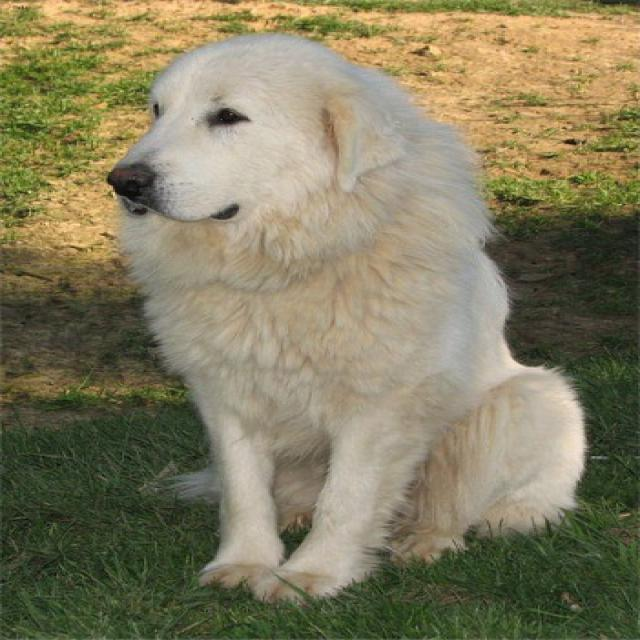dog-great_pyrenees: (84, 24, 600, 611)
